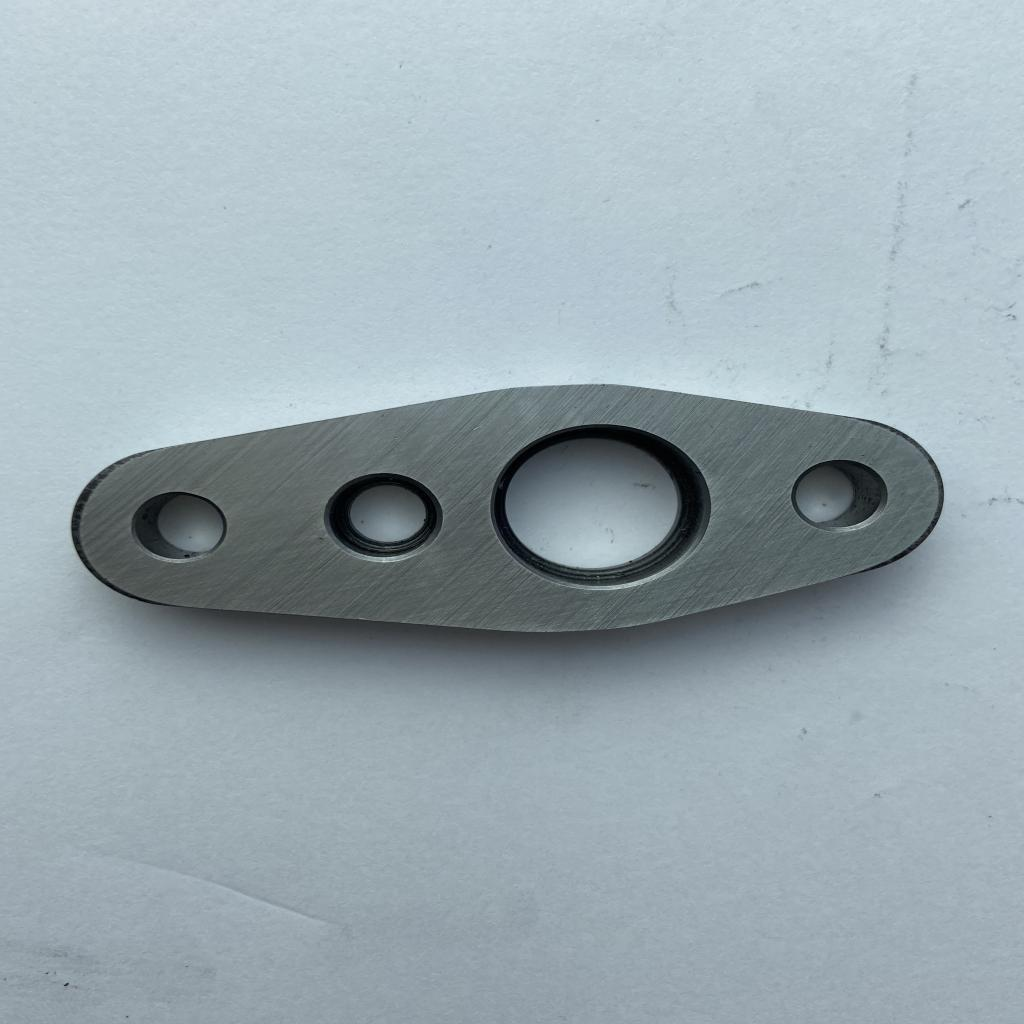chap: (392, 434, 405, 448), (860, 452, 876, 462), (314, 535, 328, 542), (473, 424, 482, 431)
